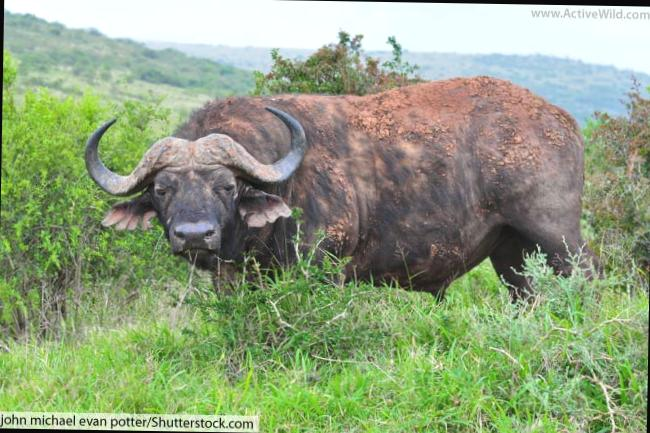Buffalo: (61, 74, 650, 297)
